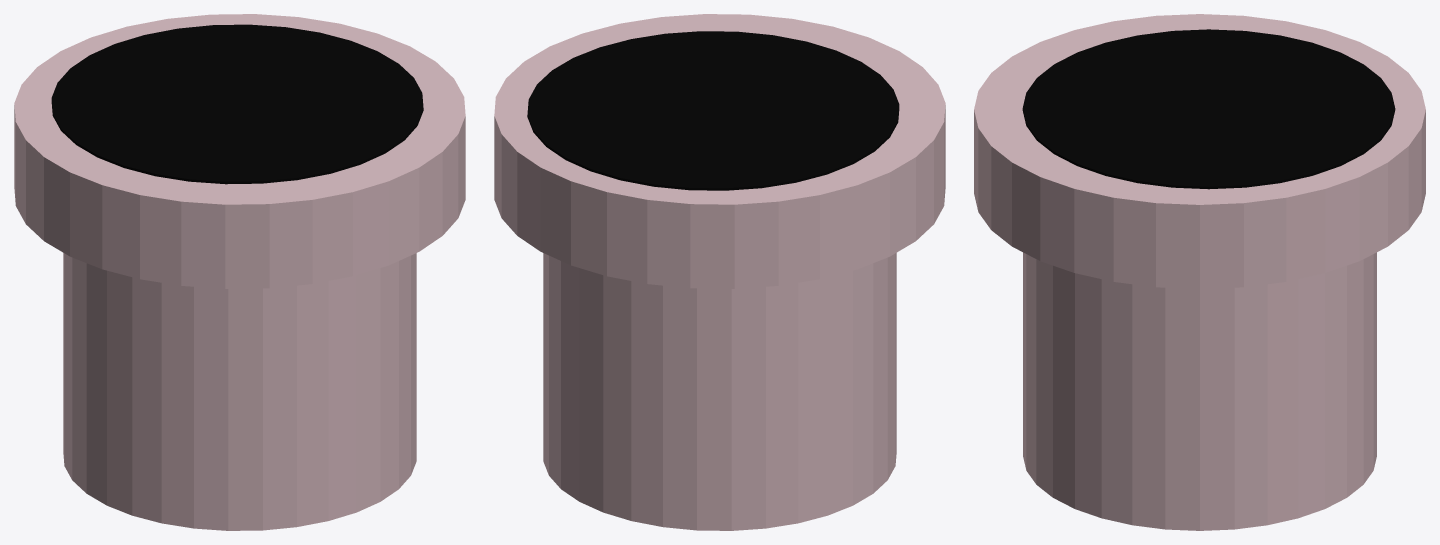
File: pipepink.gltf
3 renders of one model, left to right at view 1: azimuth 30°, elevation 25°; view 2: azimuth 150°, elevation 25°; view 3: azimuth 270°, elevation 25°, orthographic.
Parts seen in each view (by area): view 1: Cylinder.004, Cylinder, Cylinder.001; view 2: Cylinder.004, Cylinder, Cylinder.001; view 3: Cylinder.004, Cylinder, Cylinder.001.
Boxes of the visible parts, x1,y1,x2,y2 form: Cylinder.004: [63, 253, 416, 530]; Cylinder: [14, 14, 465, 288]; Cylinder.001: [51, 24, 423, 184]; Cylinder.004: [543, 253, 896, 530]; Cylinder: [494, 14, 945, 288]; Cylinder.001: [527, 31, 899, 190]; Cylinder.004: [1023, 252, 1376, 530]; Cylinder: [974, 14, 1425, 288]; Cylinder.001: [1022, 29, 1395, 189].
Size of the model in its own units: 1.04 by 0.8827 by 1.04.
